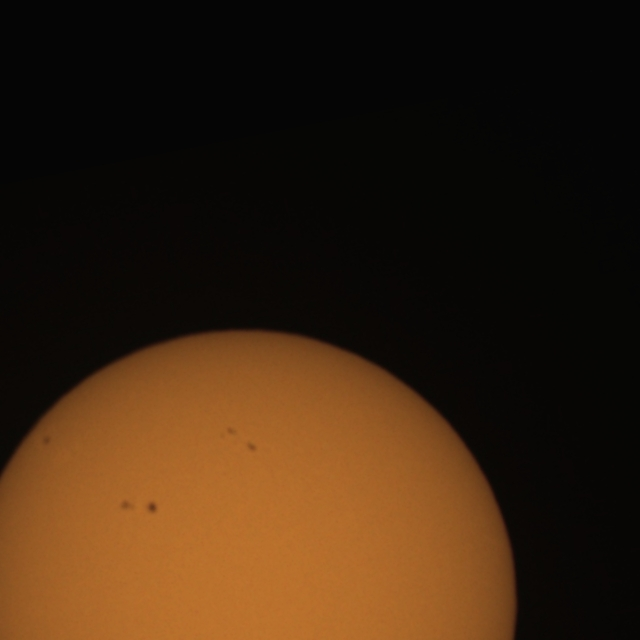sunspot: (219, 425, 259, 454), (118, 497, 159, 516), (118, 498, 136, 514), (219, 426, 238, 441), (244, 439, 258, 454), (146, 500, 159, 516), (40, 433, 53, 448)
